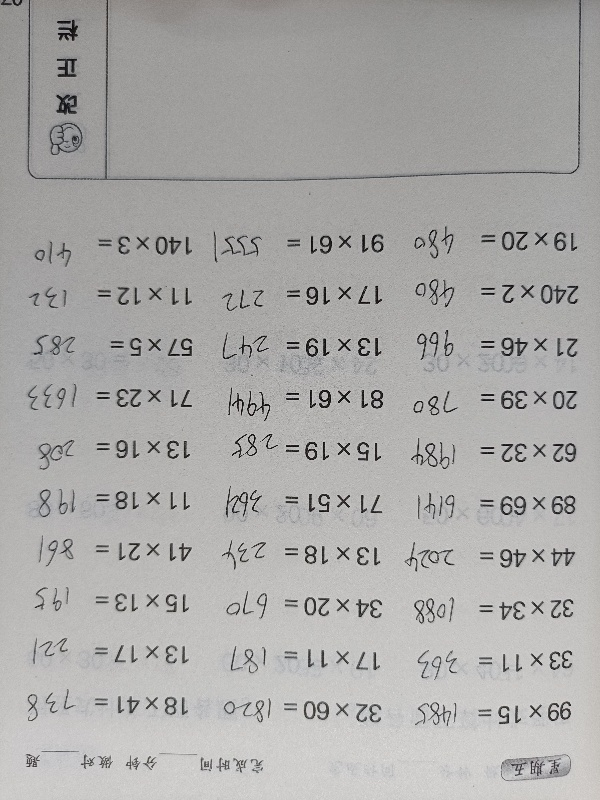equation: (210, 427, 390, 469), (210, 691, 390, 730), (405, 488, 585, 524), (406, 224, 586, 259), (213, 228, 393, 263), (21, 229, 201, 264), (407, 277, 587, 312), (210, 330, 390, 365), (406, 330, 586, 365), (406, 382, 586, 417), (405, 436, 585, 471), (209, 538, 389, 573), (212, 591, 392, 626), (403, 593, 583, 628), (402, 645, 582, 680), (401, 697, 581, 732), (20, 279, 200, 313), (211, 279, 391, 313), (21, 330, 201, 364), (20, 381, 200, 415), (212, 382, 392, 416), (19, 433, 199, 467), (18, 483, 198, 517), (211, 487, 391, 521), (404, 541, 584, 575), (19, 586, 199, 620), (17, 637, 197, 671), (209, 642, 389, 676), (20, 535, 200, 568), (17, 689, 197, 722)
